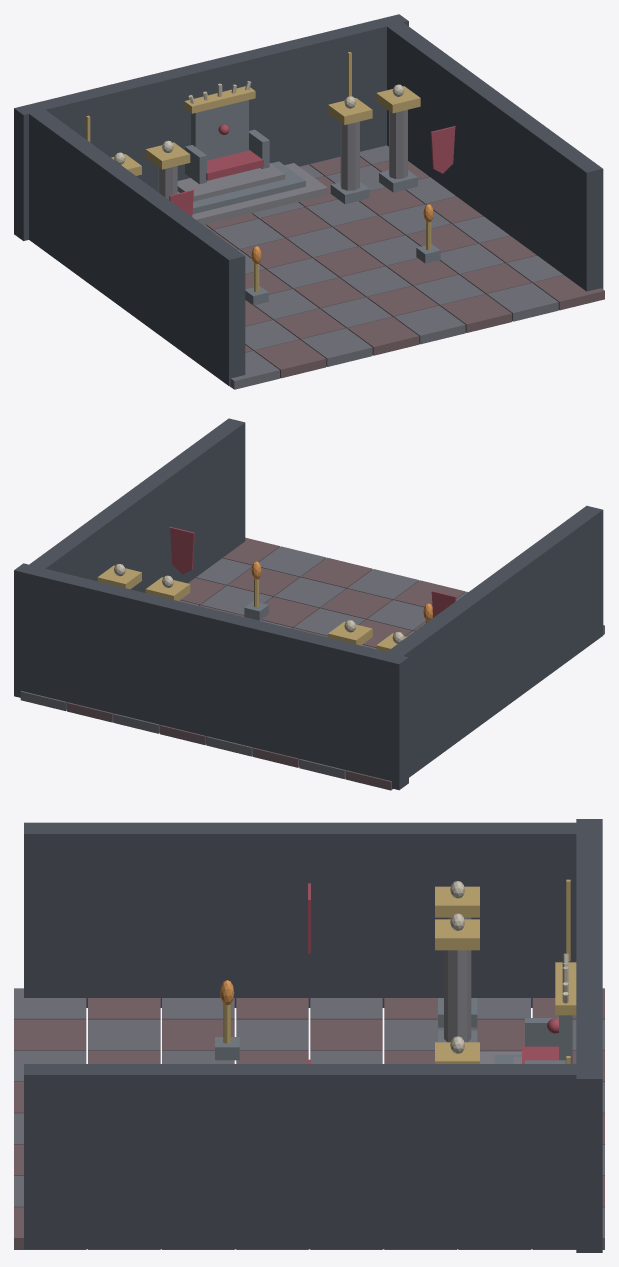
The model's file is environment_hollow_throne.glb.
3 views of the same model, one above another, from view 1: azimuth 30°, elevation 25°; view 2: azimuth 150°, elevation 25°; view 3: azimuth 270°, elevation 25° (orthographic). The views are drawn at different scales.
Visible parts, largest first — view 1: throne_left_wall, throne_back_wall, throne_right_wall, throne_back, throne_step_1, throne_step_3, throne_step_2, throne_tile_3_7, throne_tile_4_7, throne_tile_5_7, throne_tile_2_7, throne_tile_1_7 (+46 smaller); view 2: throne_back_wall, throne_left_wall, throne_right_wall, throne_tile_4_6, throne_tile_4_7, throne_tile_5_6, throne_tile_5_7, throne_tile_6_7, throne_tile_3_6, throne_tile_6_6, throne_tile_5_5, throne_tile_6_5 (+10 smaller); view 3: throne_right_wall, throne_left_wall, throne_back_wall, hall_pillar_1, throne_tile_1_3, throne_tile_1_6, throne_tile_1_7, throne_tile_1_4, throne_tile_1_5, throne_tile_1_2, throne_tile_0_7, throne_tile_0_3 (+19 smaller).
Part boxes in pixels (left/top/right/bottom): throne_left_wall: left=23, top=105, right=245, bottom=385; throne_back_wall: left=14, top=14, right=408, bottom=240; throne_right_wall: left=380, top=18, right=603, bottom=291; throne_back: left=191, top=100, right=248, bottom=160; throne_step_1: left=192, top=163, right=327, bottom=225; throne_step_3: left=177, top=163, right=285, bottom=201; throne_step_2: left=177, top=161, right=305, bottom=213; throne_tile_3_7: left=347, top=317, right=419, bottom=355; throne_tile_4_7: left=394, top=305, right=465, bottom=344; throne_tile_5_7: left=440, top=294, right=511, bottom=332; throne_tile_2_7: left=301, top=328, right=372, bottom=366; throne_tile_1_7: left=254, top=339, right=326, bottom=378; throne_back_wall: left=14, top=563, right=408, bottom=790; throne_left_wall: left=381, top=505, right=603, bottom=777; throne_right_wall: left=29, top=418, right=245, bottom=592; throne_tile_4_6: left=321, top=588, right=392, bottom=619; throne_tile_4_7: left=347, top=569, right=419, bottom=600; throne_tile_5_6: left=274, top=577, right=345, bottom=608; throne_tile_5_7: left=301, top=557, right=372, bottom=588; throne_tile_6_7: left=259, top=546, right=326, bottom=577; throne_tile_3_6: left=367, top=600, right=425, bottom=631; throne_tile_6_6: left=228, top=567, right=299, bottom=597; throne_tile_5_5: left=261, top=597, right=318, bottom=628; throne_tile_6_5: left=201, top=585, right=272, bottom=615; throne_right_wall: left=24, top=1064, right=594, bottom=1249; throne_left_wall: left=24, top=822, right=594, bottom=1007; throne_back_wall: left=576, top=819, right=602, bottom=1252; hall_pillar_1: left=444, top=950, right=471, bottom=1042; throne_tile_1_3: left=310, top=1019, right=382, bottom=1050; throne_tile_1_6: left=88, top=1019, right=160, bottom=1050; throne_tile_1_7: left=14, top=1019, right=86, bottom=1050; throne_tile_1_4: left=236, top=1019, right=308, bottom=1050; throne_tile_1_5: left=162, top=1019, right=234, bottom=1050; throne_tile_1_2: left=384, top=1019, right=443, bottom=1050; throne_tile_0_7: left=14, top=988, right=86, bottom=1019; throne_tile_0_3: left=310, top=998, right=382, bottom=1019.
Bounding box in the file's own units: 11.2 × 3.54 × 10.77.
